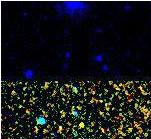star: (68, 114, 98, 139)
